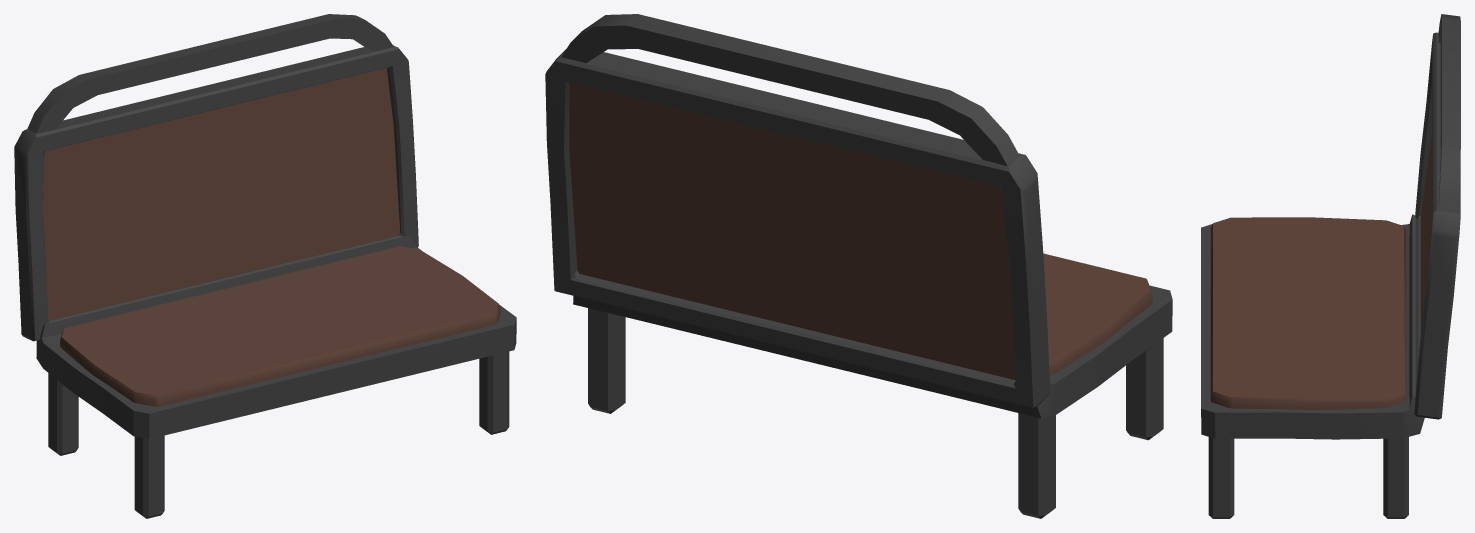
File: Chair_double.fbx
3 views of the same model, side by side, from view 1: azimuth 30°, elevation 25°; view 2: azimuth 150°, elevation 25°; view 3: azimuth 270°, elevation 25° (orthographic). The views are drawn at different scales.
Visible parts, largest first — view 1: Chair_double; view 2: Chair_double; view 3: Chair_double.
Part boxes in pixels (<box>): Chair_double: <box>14,14,516,518</box>; Chair_double: <box>545,14,1172,518</box>; Chair_double: <box>1201,14,1460,518</box>.
Size of the model in its own units: 1.7 by 1.45 by 0.9771.
